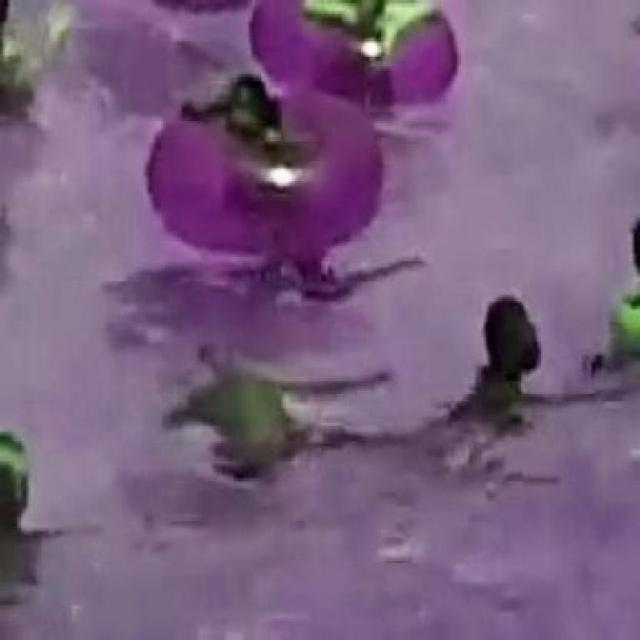drowning: (186, 341, 302, 468), (457, 302, 538, 446)
